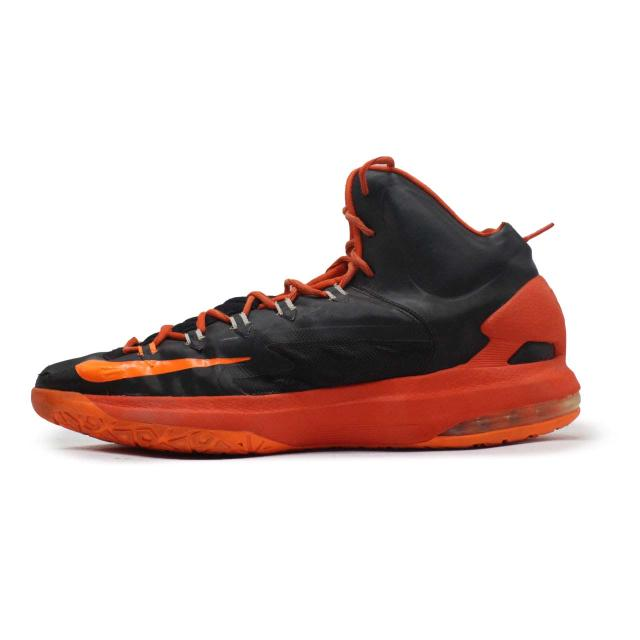heel: (490, 221, 566, 366)
midsole: (25, 363, 578, 457)
uppersole: (30, 166, 501, 398)
